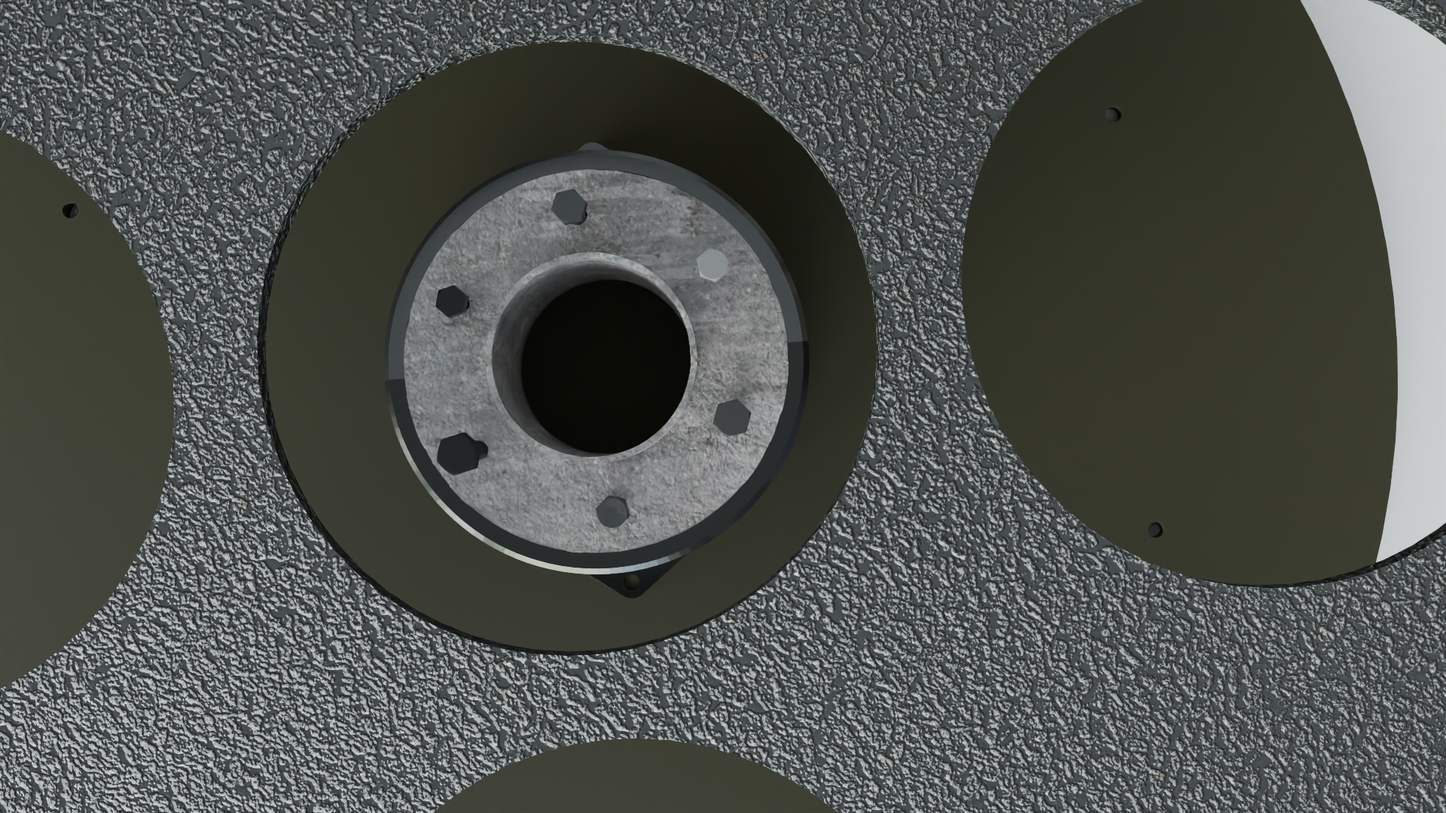bolt: (437, 433, 478, 476), (713, 399, 752, 437), (551, 189, 586, 224), (596, 496, 629, 529), (697, 248, 729, 281), (435, 285, 466, 317)
